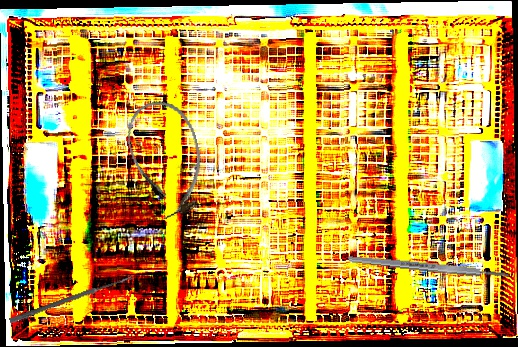Cannula: (119, 92, 215, 225)
Scalpel Handle: (346, 253, 511, 281)
Surgical Spoon: (8, 273, 135, 325)
